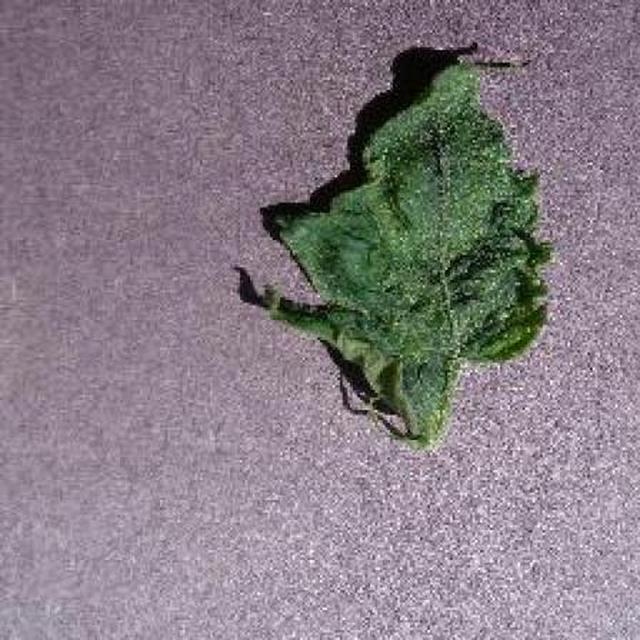Mosaic Virus Leaf: (364, 66, 640, 611)
